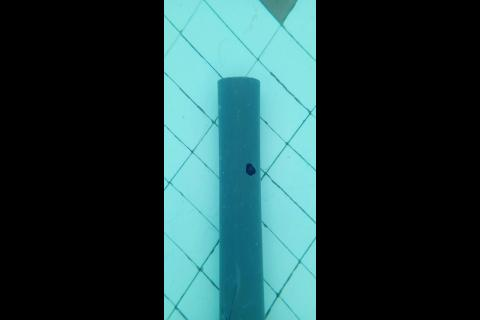kebocoran: (243, 162, 257, 176)
keretakan: (221, 285, 238, 320)
